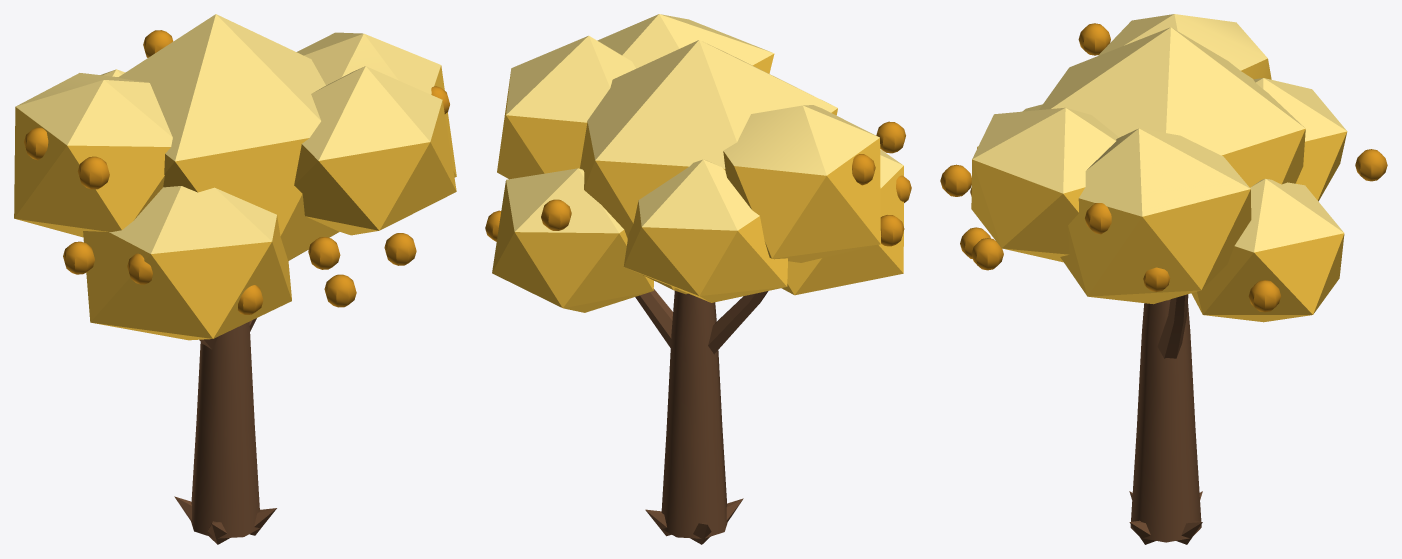
Rendered from GoldenTree.fbx.
The picture shows the model from 3 angles, left to right: view 1: azimuth 30°, elevation 25°; view 2: azimuth 150°, elevation 25°; view 3: azimuth 270°, elevation 25°; orthographic projection. The views are drawn at different scales.
Parts seen in each view (by area): view 1: GoldenTree; view 2: GoldenTree; view 3: GoldenTree.
Boxes of the visible parts, x1,y1,x2,y2 form: GoldenTree: (14, 14, 456, 544); GoldenTree: (485, 14, 911, 544); GoldenTree: (940, 14, 1387, 544).
Bounding box in the file's own units: 11.82 × 14.41 × 11.56.
1 material, 1 textured.
